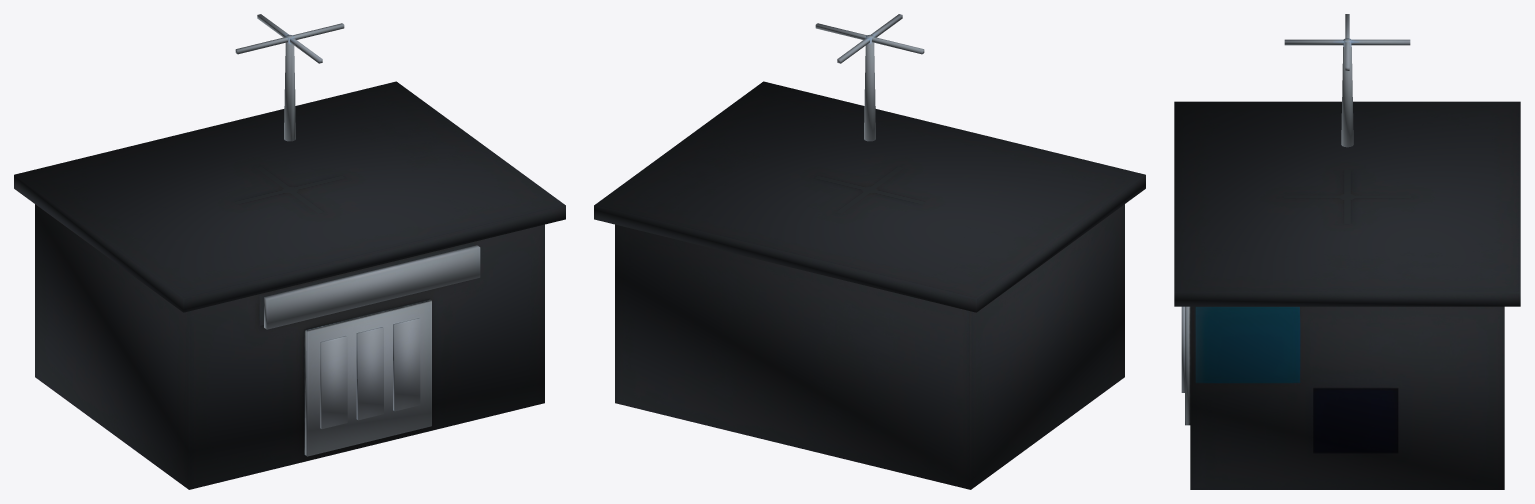
File: yard-telemetry-body-tripo-original.glb
The picture shows the model from 3 angles, left to right: view 1: azimuth 30°, elevation 25°; view 2: azimuth 150°, elevation 25°; view 3: azimuth 270°, elevation 25°; orthographic projection. The views are drawn at different scales.
Visible parts, largest first — view 1: Authored_surface_056; view 2: Authored_surface_056; view 3: Authored_surface_056.
Part boxes in pixels (box(x1,y1,x2,y2)): Authored_surface_056: box(14, 14, 565, 489); Authored_surface_056: box(594, 14, 1145, 489); Authored_surface_056: box(1174, 14, 1520, 489).
Bounding box in the file's own units: 1 × 0.8837 × 0.7674.
1 material, 1 textured.
